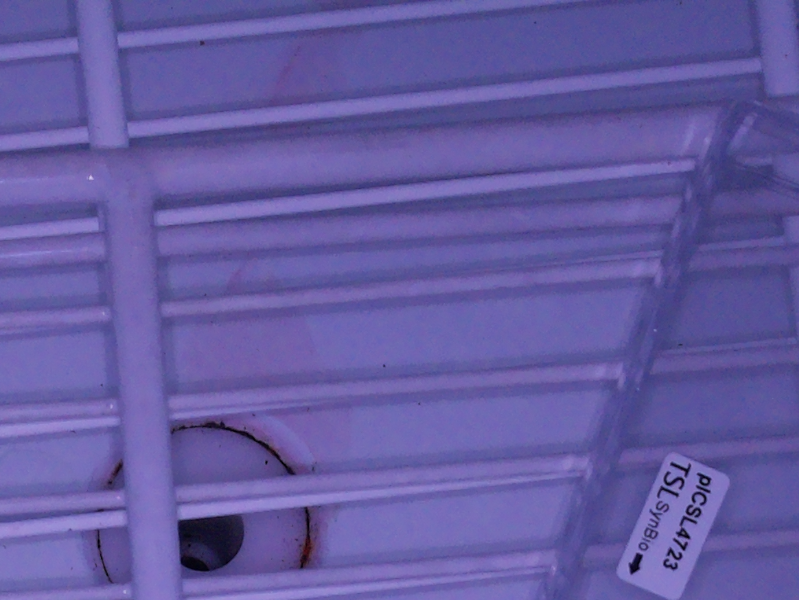plate: (535, 96, 799, 600)
